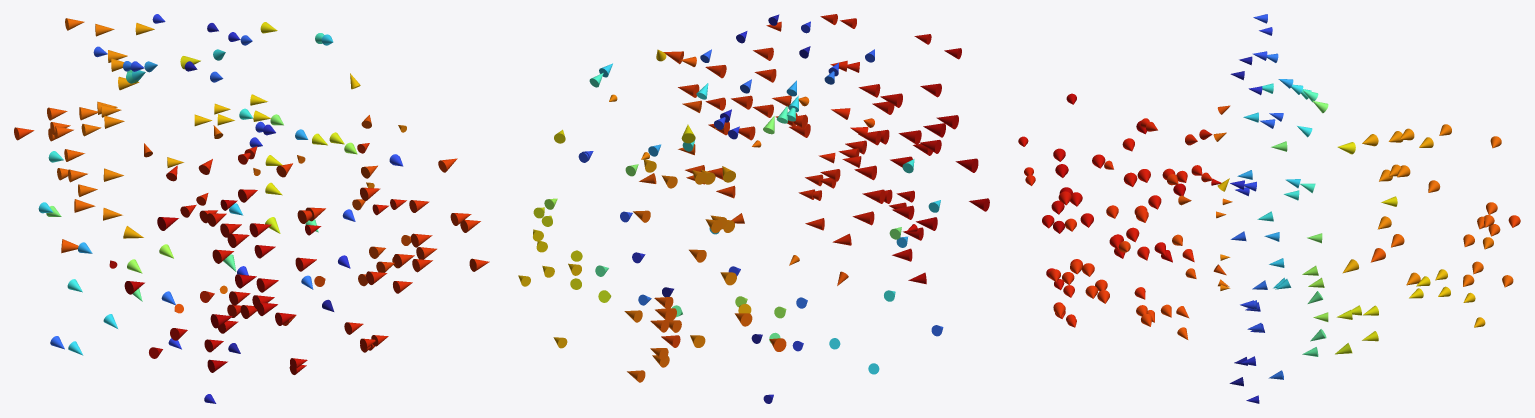
File: LineasCorrienteH2-O2_mh2-1.38_V-0.7.glb
3 views of the same model, side by side, from view 1: azimuth 30°, elevation 25°; view 2: azimuth 150°, elevation 25°; view 3: azimuth 270°, elevation 25° (orthographic). The views are drawn at different scales.
Bounding box in the file's own units: 0.000925 × 0.000968 × 0.00124.
2 materials, 2 textured.
